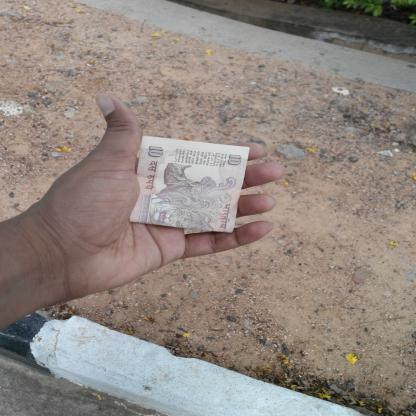Old10Back: (130, 133, 250, 235)
